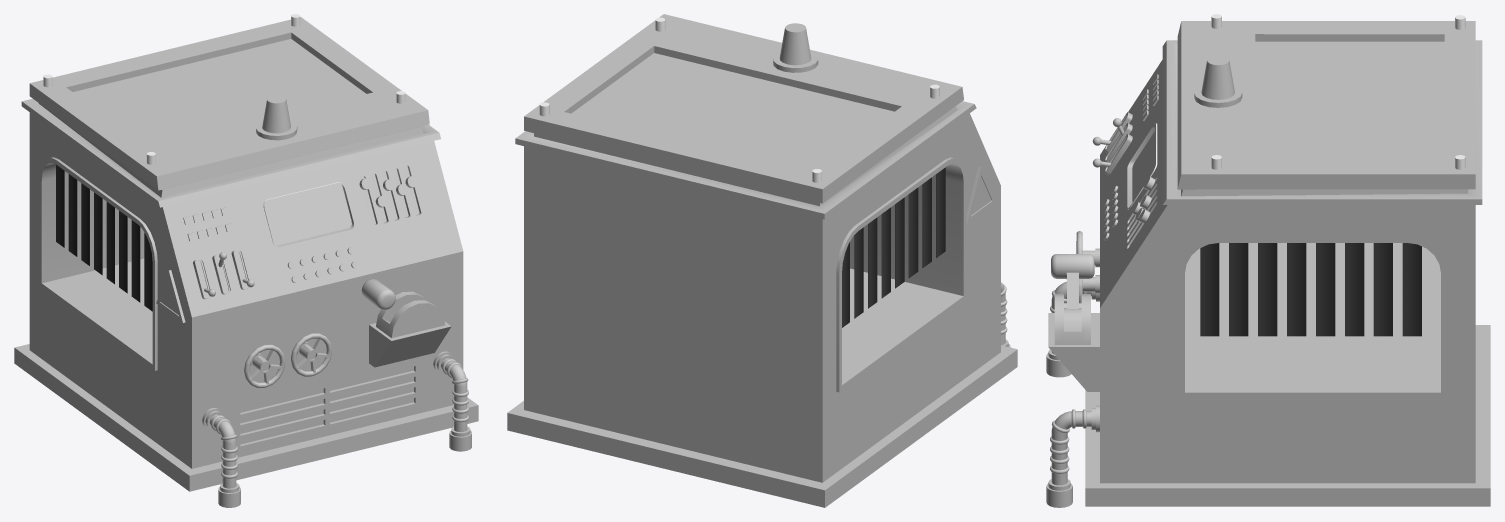
Rendered from Machn_v3_7.fbx.
The picture shows the model from 3 angles, left to right: view 1: azimuth 30°, elevation 25°; view 2: azimuth 150°, elevation 25°; view 3: azimuth 270°, elevation 25°; orthographic projection. The views are drawn at different scales.
Parts seen in each view (by area): view 1: Machn_v3_7, Plane_1.014, AlertOrange.005, Pc_3_7; view 2: Machn_v3_7, Plane_1.014, AlertOrange.005; view 3: Machn_v3_7, Plane_2.014, AlertOrange.005, Pc_3_7.
Part boxes in pixels (<box>): Machn_v3_7: <box>14,14,478,507</box>; Plane_1.014: <box>56,165,152,311</box>; AlertOrange.005: <box>256,95,297,140</box>; Pc_3_7: <box>361,279,402,316</box>; Machn_v3_7: <box>507,14,1017,507</box>; Plane_1.014: <box>842,167,945,327</box>; AlertOrange.005: <box>773,23,818,72</box>; Machn_v3_7: <box>1046,14,1490,507</box>; Plane_2.014: <box>1200,243,1421,336</box>; AlertOrange.005: <box>1194,55,1242,107</box>; Pc_3_7: <box>1051,254,1094,308</box>.
Size of the model in its own units: 263 by 283 by 303.
